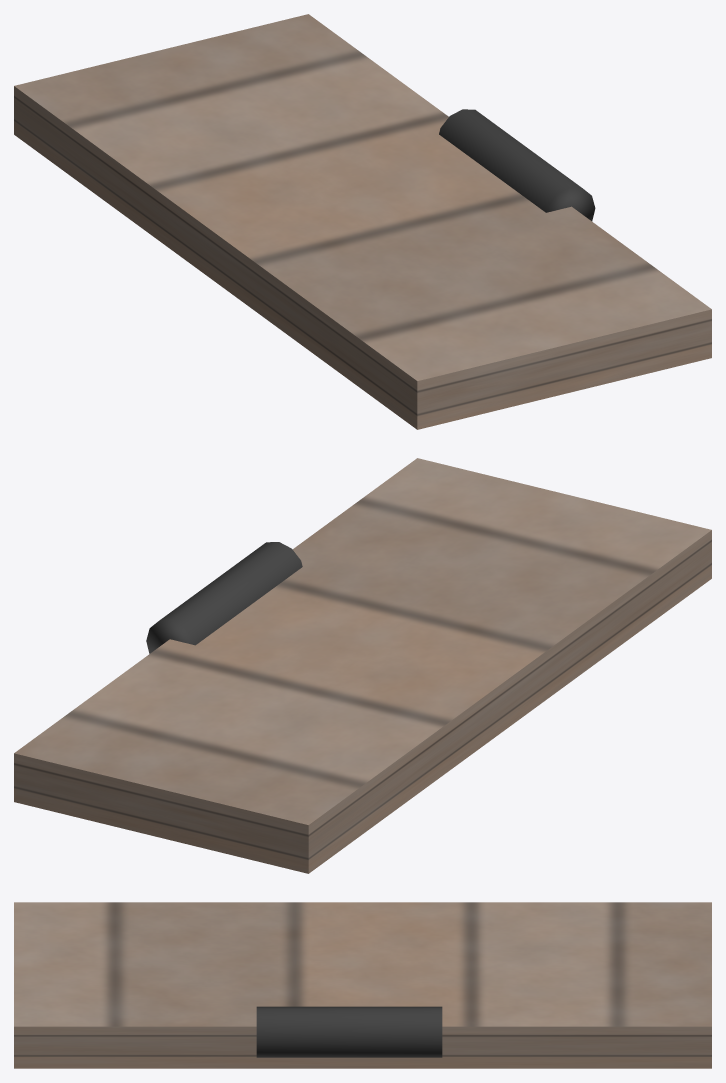
The model's file is Hatch.fbx.
3 views of the same model, one above another, from view 1: azimuth 30°, elevation 25°; view 2: azimuth 150°, elevation 25°; view 3: azimuth 270°, elevation 25° (orthographic). The views are drawn at different scales.
Visible parts, largest first — view 1: Hatch; view 2: Hatch; view 3: Hatch.
Boxes of the visible parts, x1=… form: Hatch: x1=14, y1=14, x2=711, y2=429; Hatch: x1=14, y1=458, x2=711, y2=873; Hatch: x1=14, y1=902, x2=711, y2=1068.
Bounding box in the file's own units: 1.08 × 0.2201 × 2.36.
